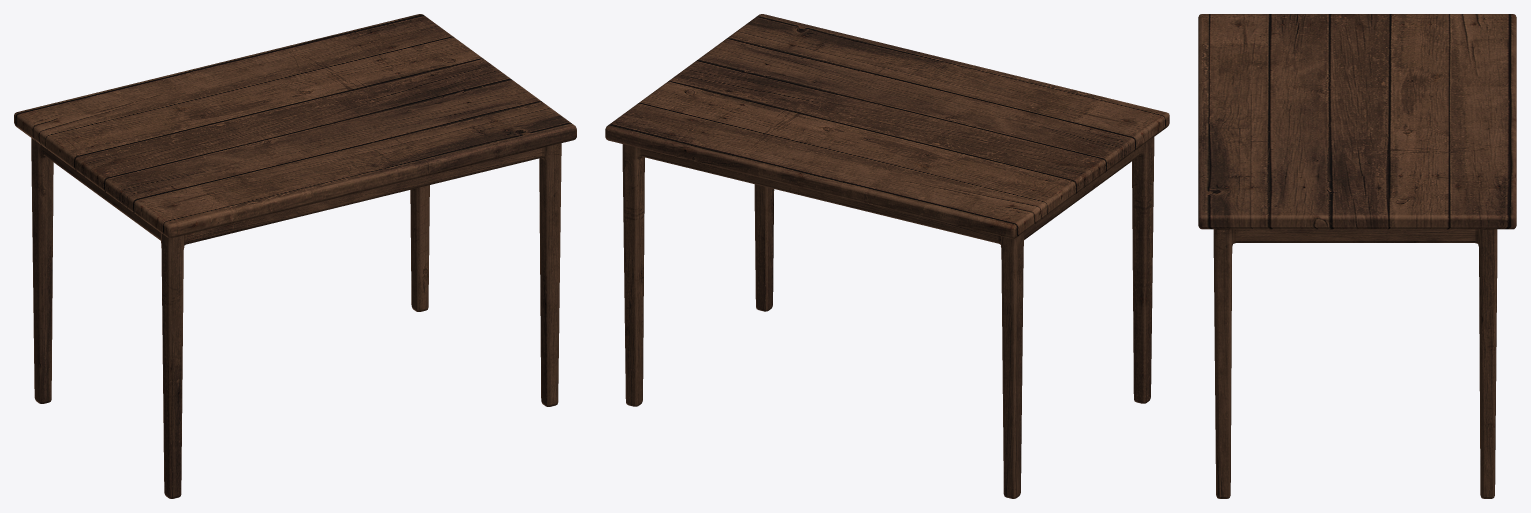
File: stage4_table.fbx
3 renders of one model, left to right at view 1: azimuth 30°, elevation 25°; view 2: azimuth 150°, elevation 25°; view 3: azimuth 270°, elevation 25°, orthographic.
Parts seen in each view (by area): view 1: stage4_table; view 2: stage4_table; view 3: stage4_table.
Boxes of the visible parts, x1,y1,x2,y2 form: stage4_table: (14, 14, 576, 498); stage4_table: (605, 14, 1169, 498); stage4_table: (1198, 14, 1516, 498).
Size of the model in its own units: 130 by 86.08 by 85.99.
